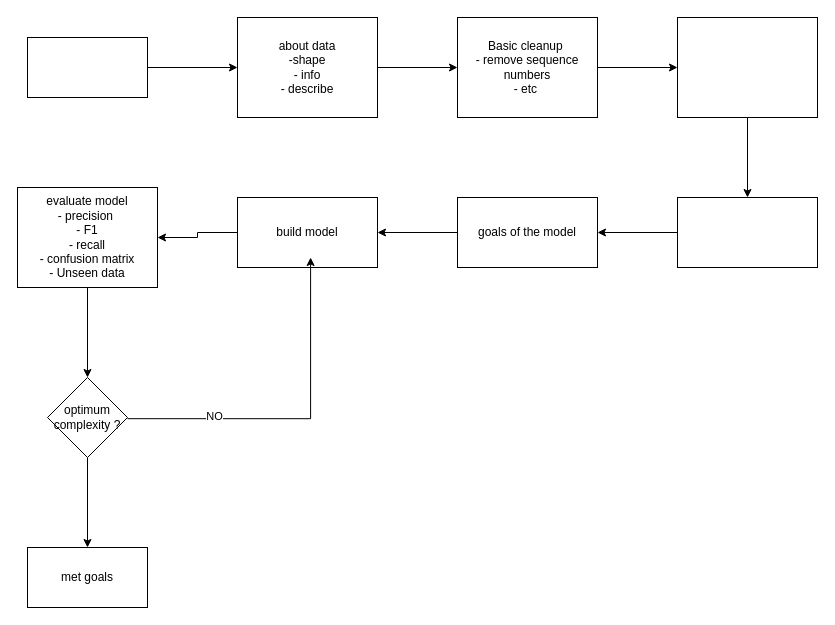
Some shapes in this 835 by 625 pixel diagram are drawn without their labels. Here are the shapes that lost their labels. From the top down, the box of each, then its label:
(26, 36, 148, 98): Load Data
(676, 16, 818, 118): EDA - univariae - Bivariate
(676, 196, 818, 268): Prepare data for model building
